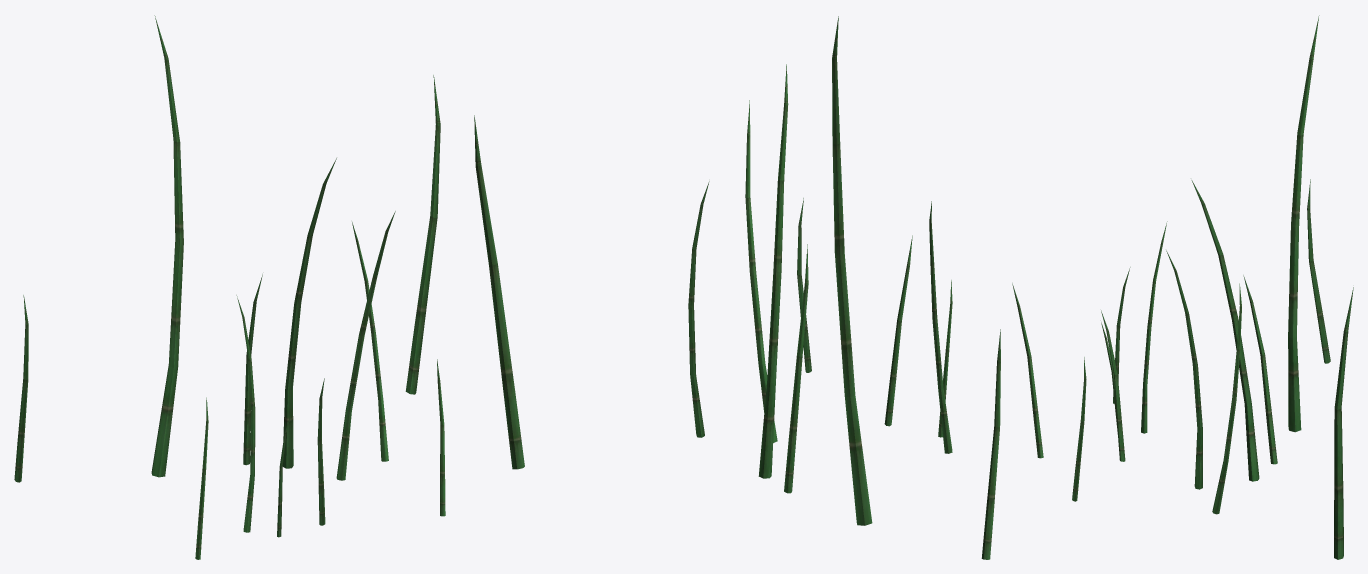
The model's file is Area_13_66.fbx.
3 renders of one model, left to right at view 1: azimuth 30°, elevation 25°; view 2: azimuth 150°, elevation 25°; view 3: azimuth 270°, elevation 25°, orthographic. The views are drawn at different scales.
Parts seen in each view (by area): view 1: Area_13_66; view 2: Area_13_66; view 3: Area_13_66.
Part boxes in pixels (box(x1,y1,x2,y2)): Area_13_66: box(14, 15, 445, 559); Area_13_66: box(474, 16, 1043, 559); Area_13_66: box(1072, 15, 1353, 559).
Bounding box in the file's own units: 2382 × 2362 × 1429.
